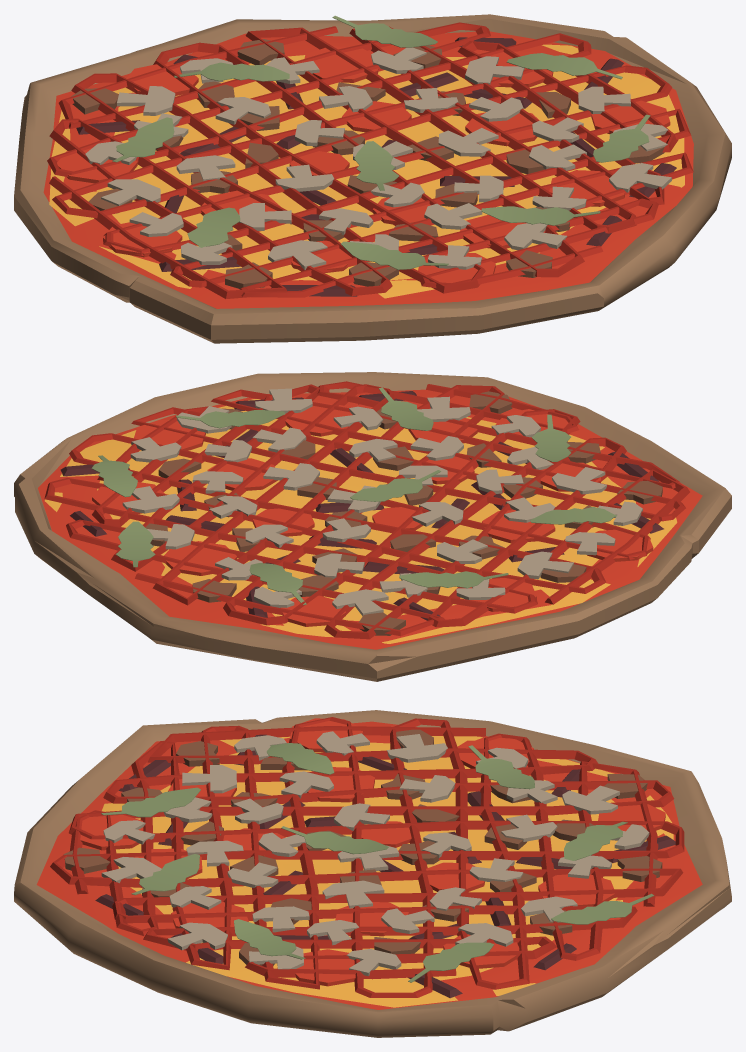
File: SM_Pizza.fbx
3 views of the same model, one above another, from view 1: azimuth 30°, elevation 25°; view 2: azimuth 150°, elevation 25°; view 3: azimuth 270°, elevation 25° (orthographic). The views are drawn at different scales.
Parts seen in each view (by area): view 1: SM_Pizza; view 2: SM_Pizza; view 3: SM_Pizza.
Part boxes in pixels (bbox=[...]): SM_Pizza: bbox=[14, 14, 731, 343]; SM_Pizza: bbox=[14, 372, 731, 681]; SM_Pizza: bbox=[14, 710, 731, 1037].
Bounding box in the file's own units: 43.75 × 2.77 × 43.16.
